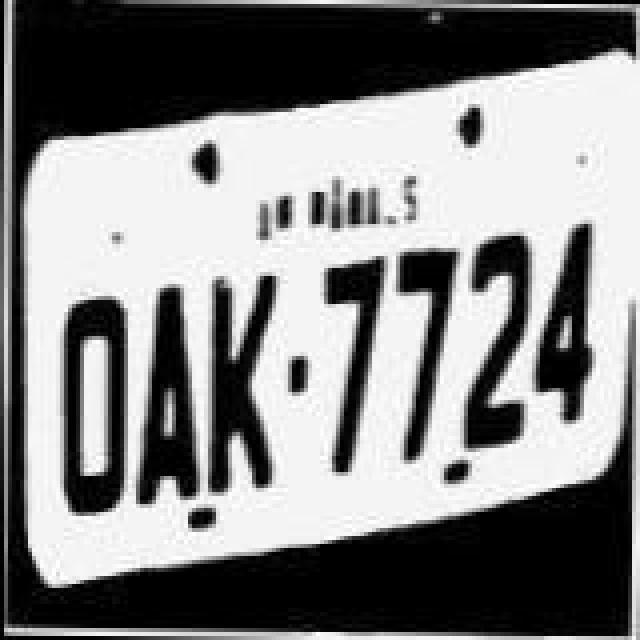2: (456, 206, 540, 458)
4: (534, 206, 606, 442)
7: (314, 246, 394, 490), (390, 224, 462, 476)
A: (124, 268, 204, 512)
K: (198, 260, 282, 504)
O: (52, 280, 140, 520)
